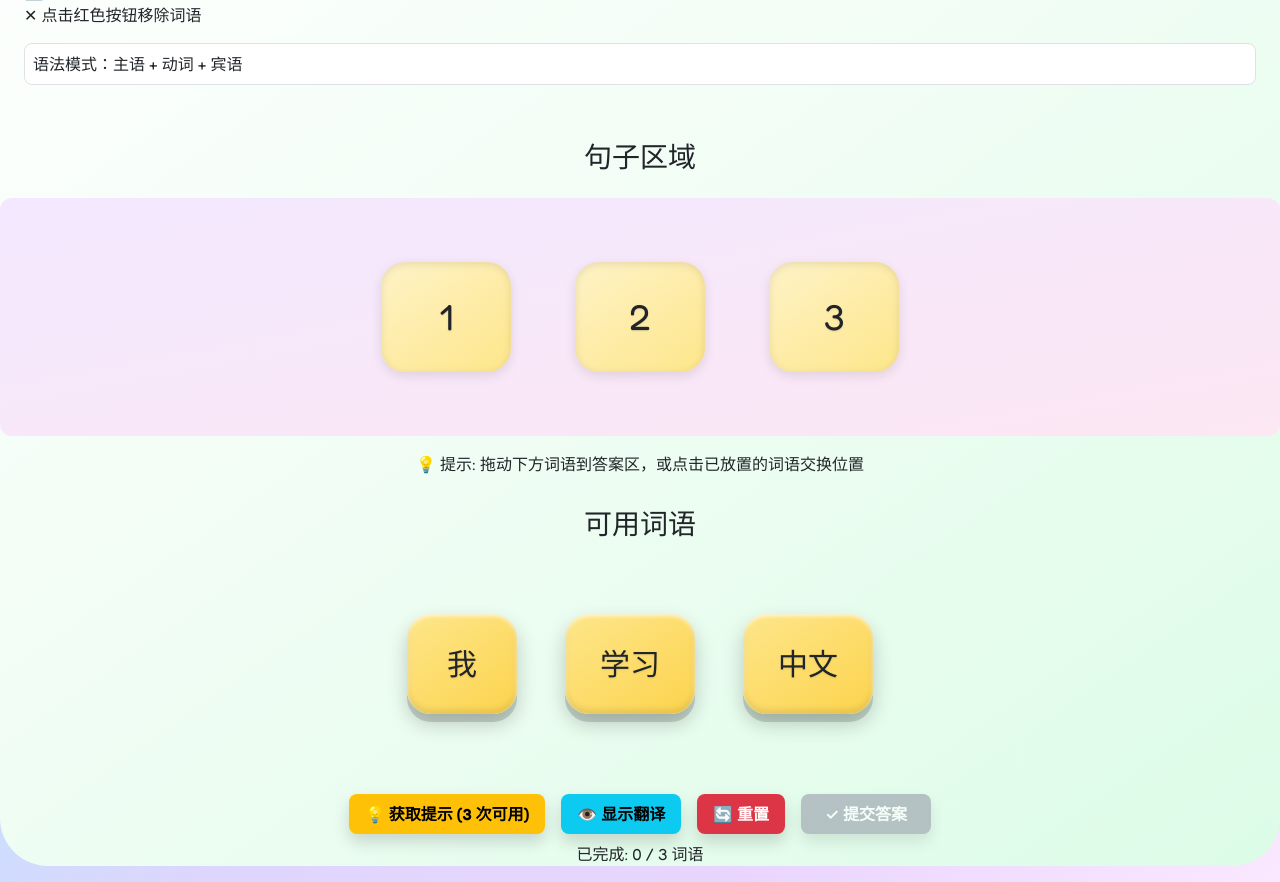
Test: SentenceGame Integration Tests › Hint Functionality › should increment hints used after requesting hint
(page scrolled)
Click the button "💡 获取提示 (3 次可用)": coordinates (447, 814) [349, 794, 545, 834]
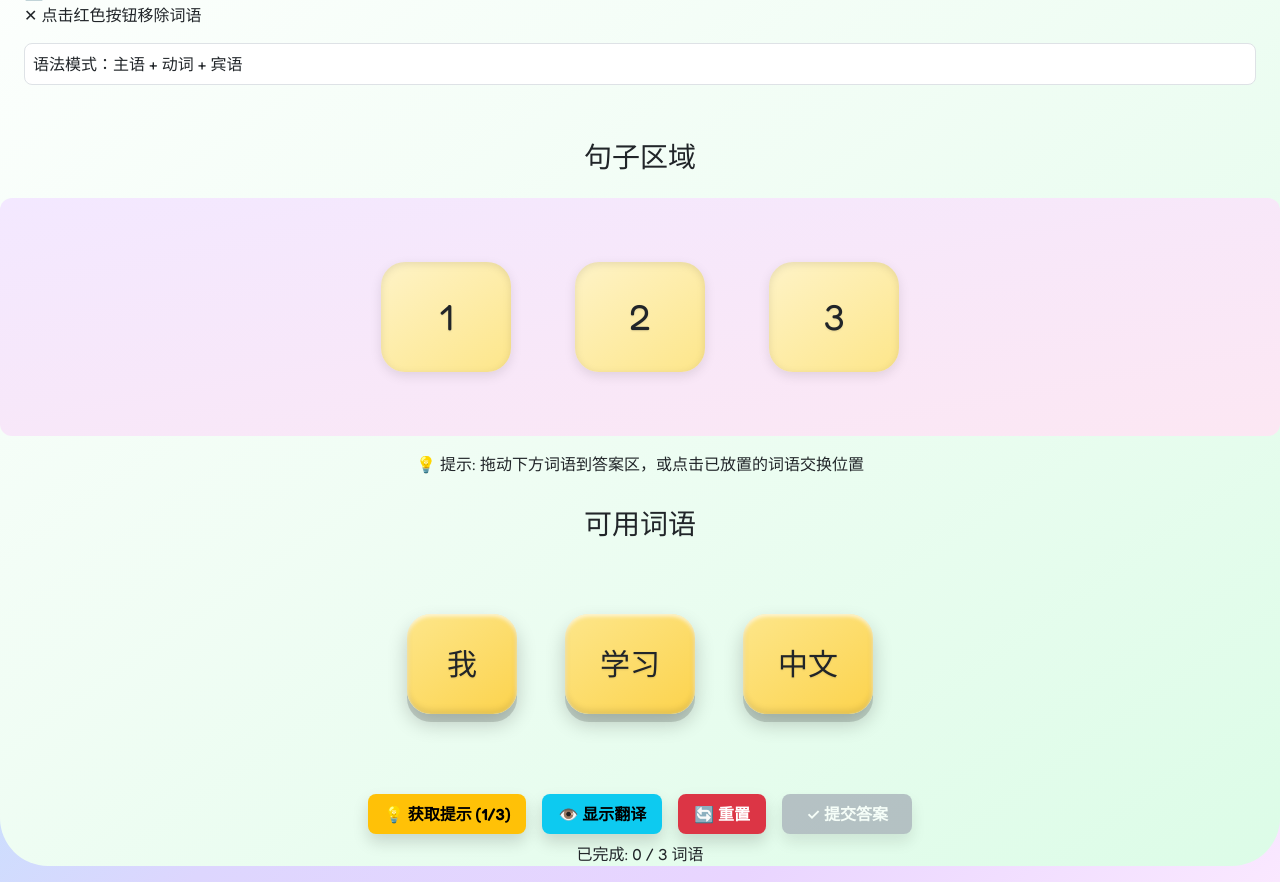
Click the button "💡 获取提示 (1/3)": coordinates (447, 814) [368, 794, 526, 834]
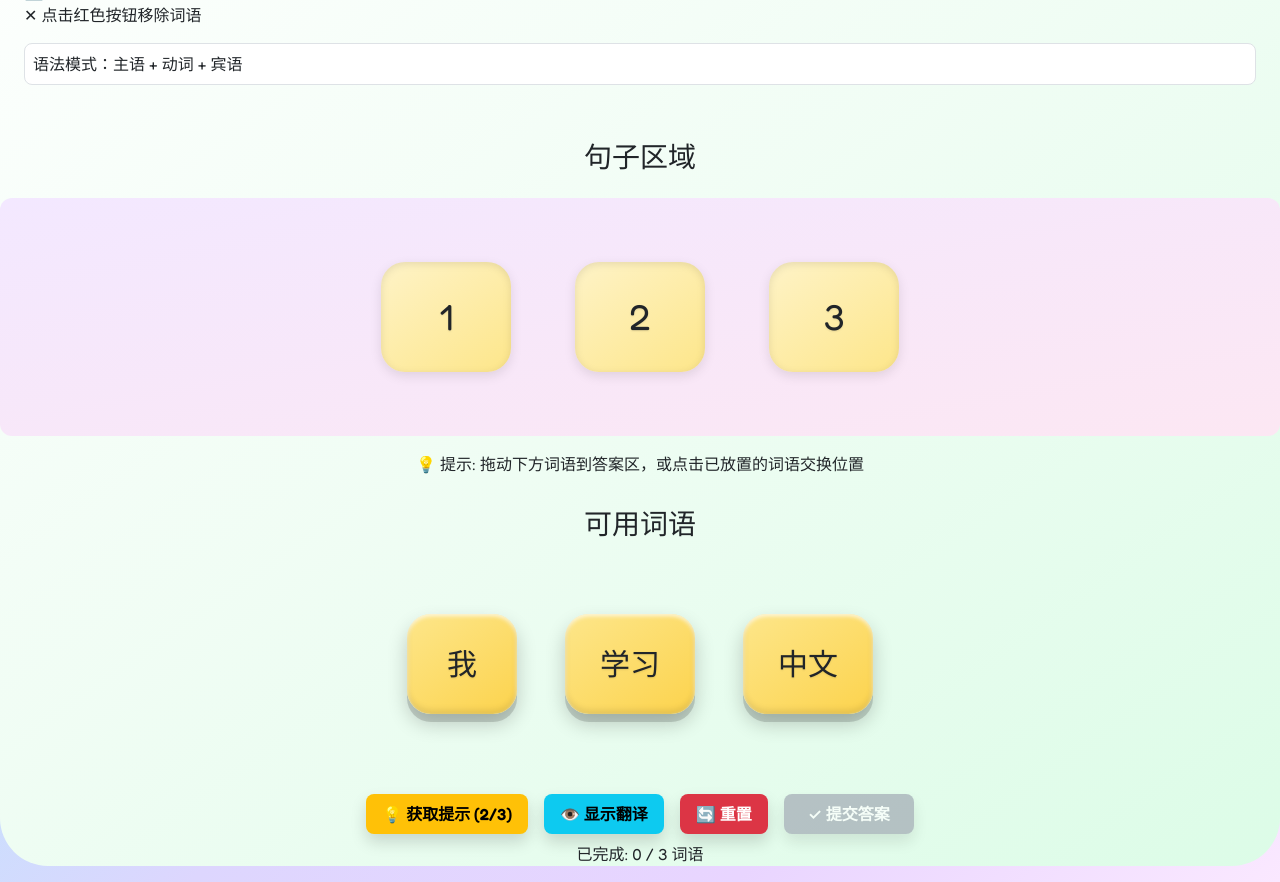
Click the button "💡 获取提示 (2/3)": coordinates (447, 814) [366, 794, 528, 834]
(page scrolled)
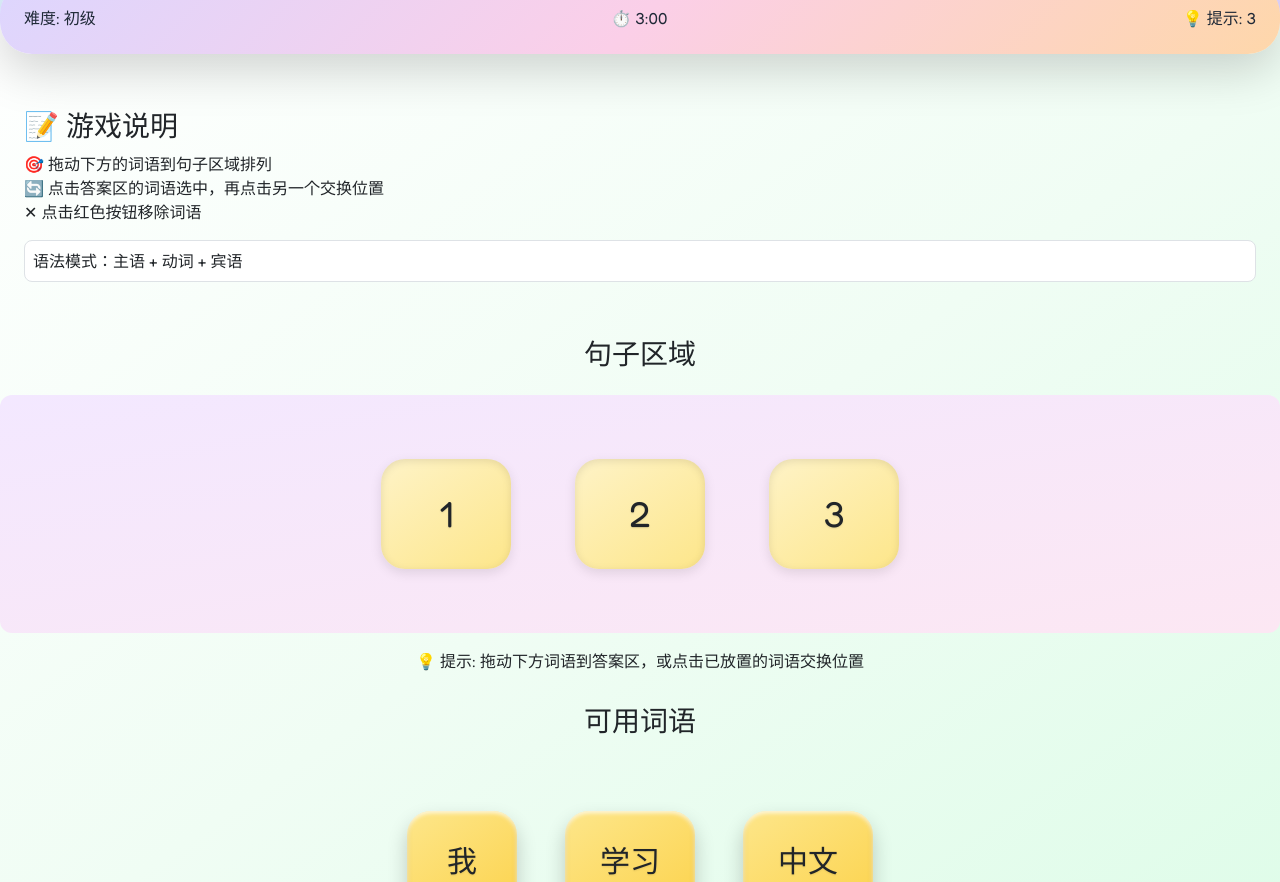
Expected: the text "💡 提示: 3" is shown, [1183, 6, 1256, 30]
